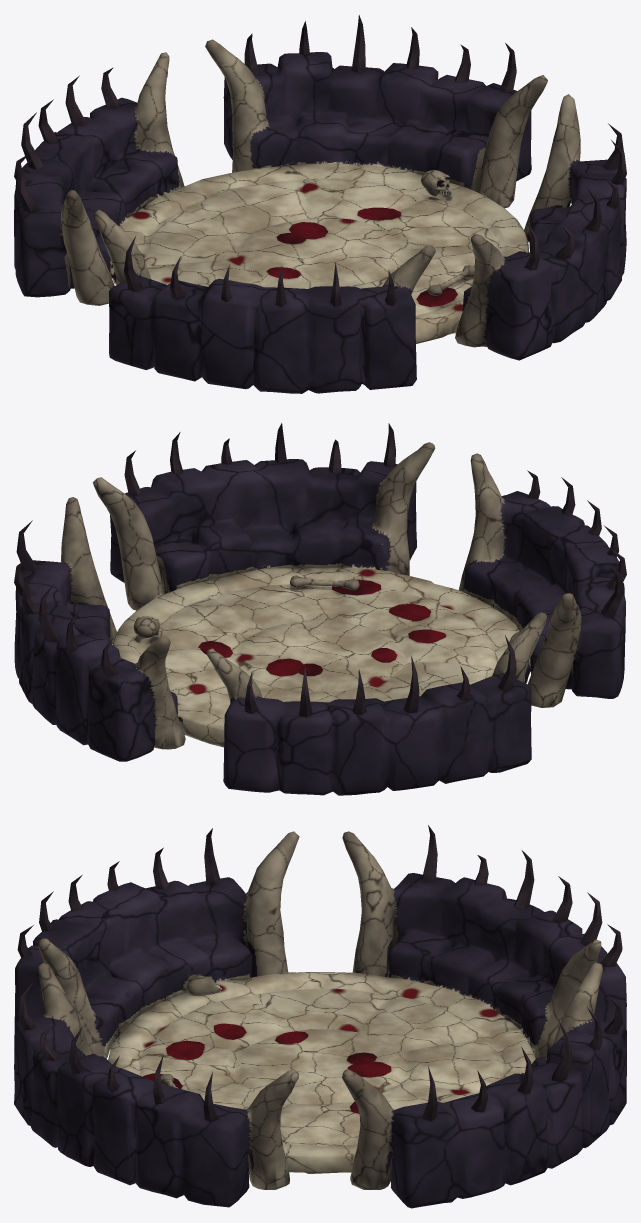
File: arena_combate.fbx
3 renders of one model, top to bottom at view 1: azimuth 30°, elevation 25°; view 2: azimuth 150°, elevation 25°; view 3: azimuth 270°, elevation 25°, orthographic. The views are drawn at different scales.
Parts seen in each view (by area): view 1: arena; view 2: arena; view 3: arena.
Boxes of the visible parts, x1,y1,x2,y2 form: arena: (14, 15, 626, 393); arena: (14, 423, 626, 795); arena: (14, 825, 626, 1208).
Bounding box in the file's own units: 16 × 4 × 16.
Materials: 1 (1 with a texture image).
